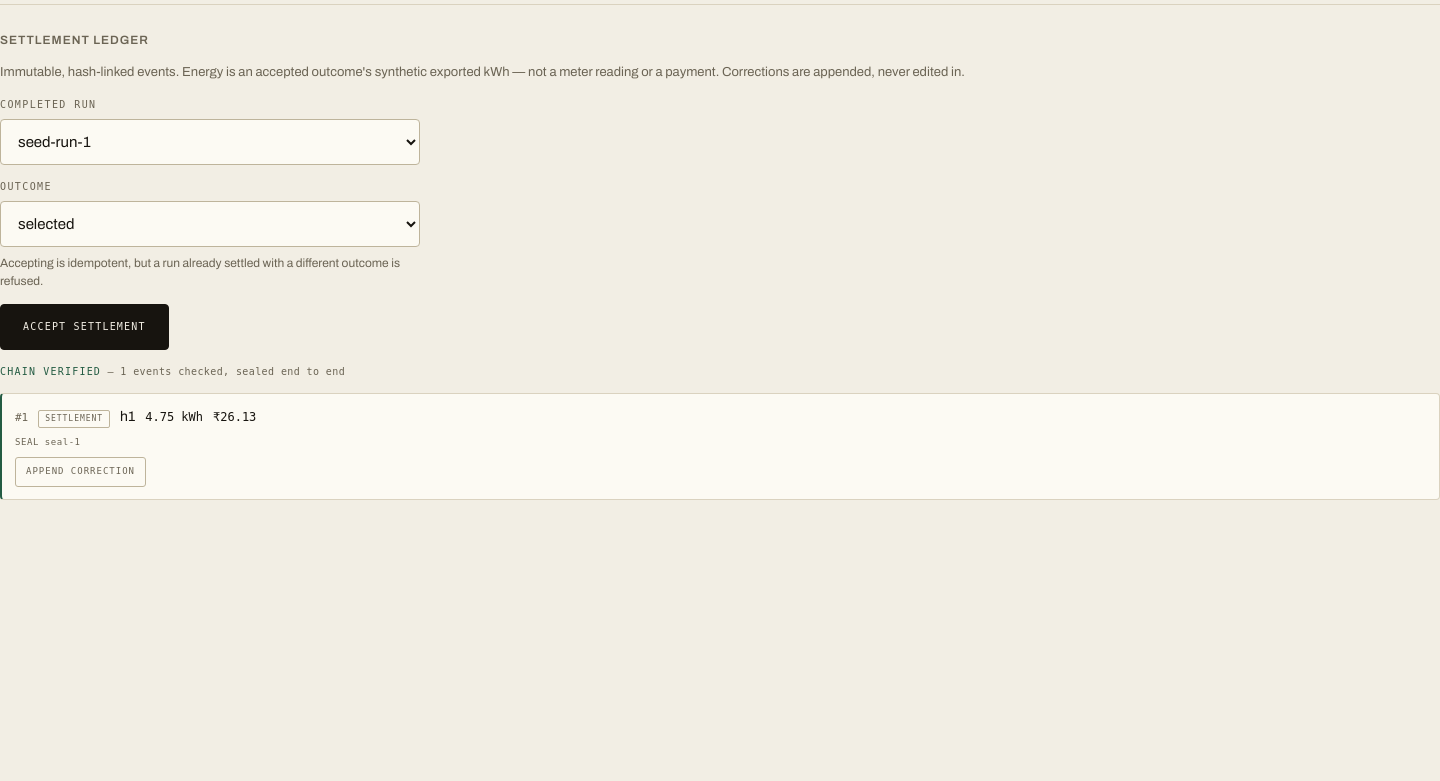
Test: LedgerPanel corrections › refuses a delta that changes nothing
Click the button "APPEND CORRECTION": (80, 472) [15,457,146,486]
(page scrolled)
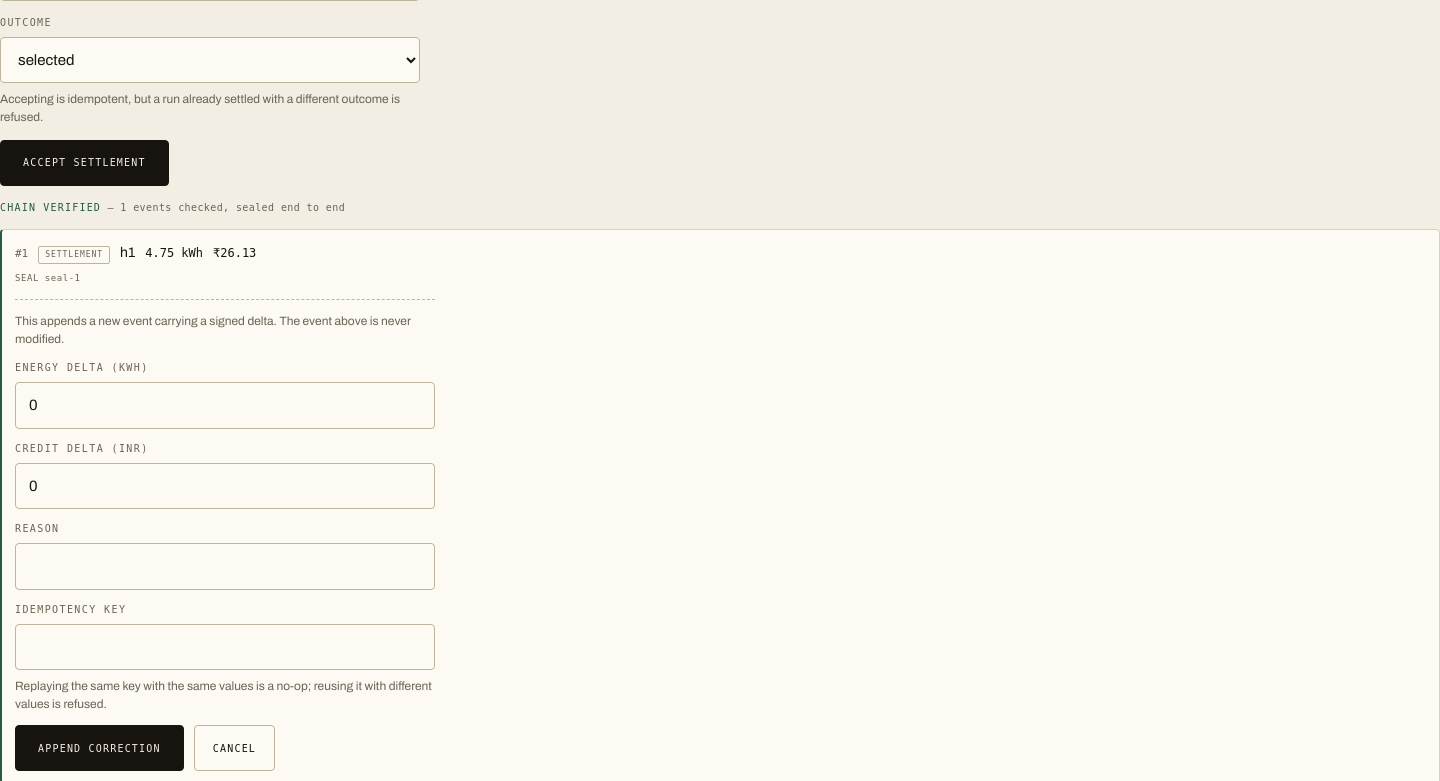
Click the button "APPEND CORRECTION": (99, 748) [15,725,184,771]
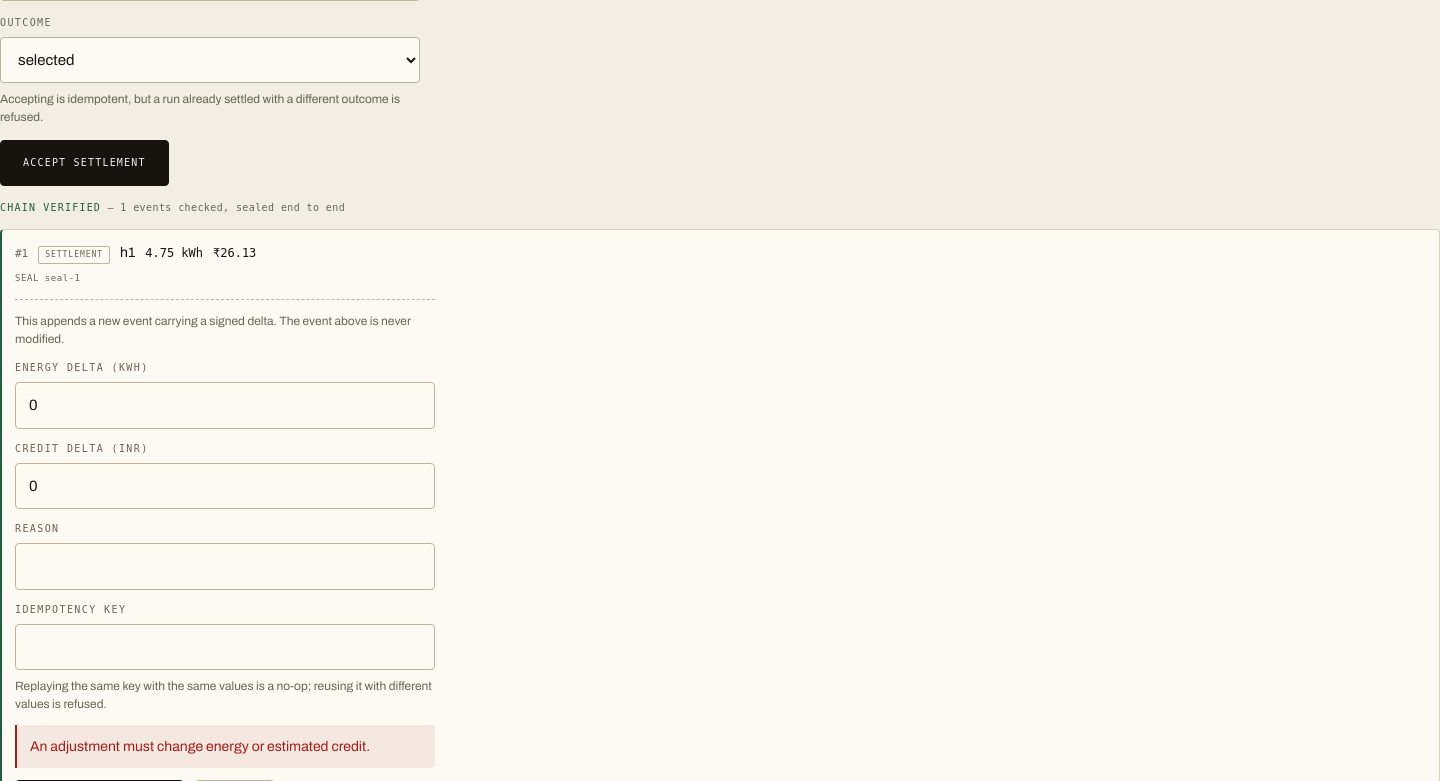
Now the message shows "must change energy or estimated credit", box [30,739,370,754]
